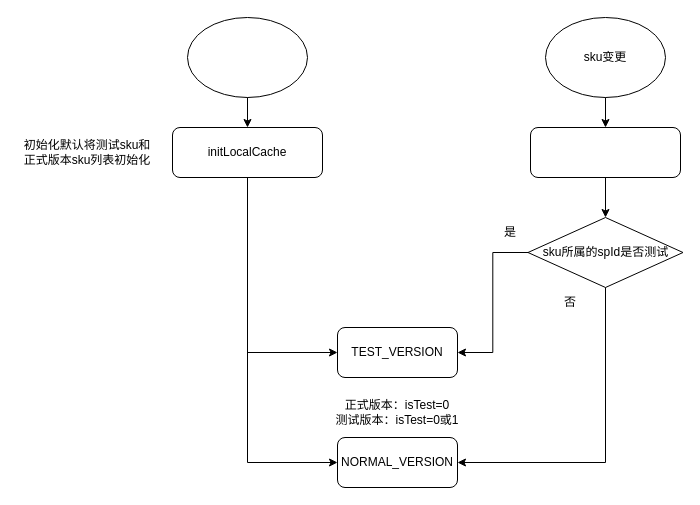
Some shapes in this 700 by 505 pixel diagram are drawn without their labels. Each missing label, with the box of its shape:
精卫触发dataChange: (530, 126, 680, 178)
项目启动: (186, 16, 308, 98)
